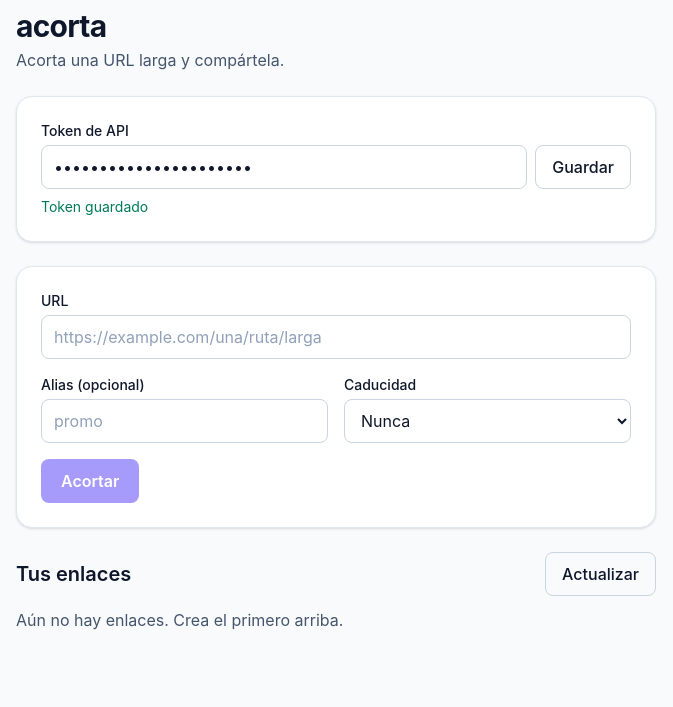
Test case: autenticación › AUT-13: los demás errores al crear (400) no mueven el foco al campo del token
The image size is (673, 707).
Check: the label "URL" is shown, box [41,292,68,309]
Type "ftp://x" into the field labelled "URL" at (336, 337), box [41,315,631,359]
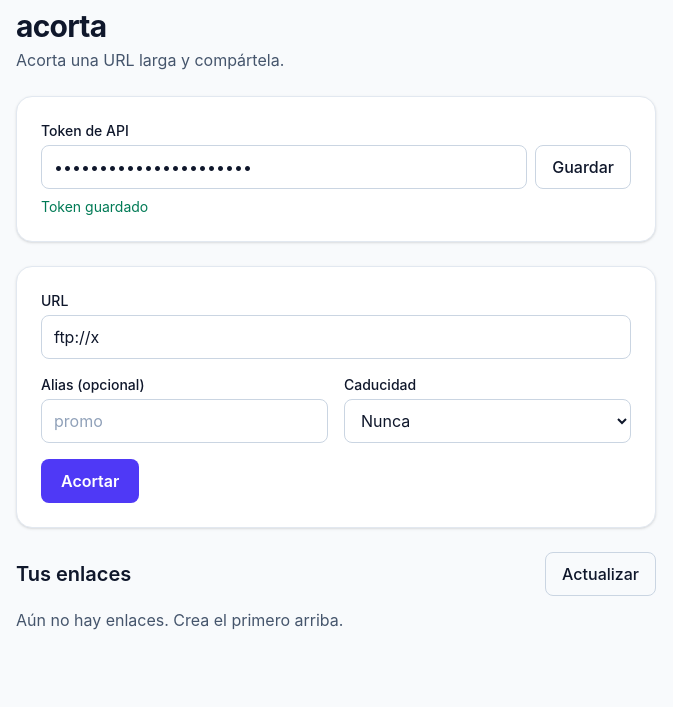
Click the submit button at (90, 481), box [41,459,139,503]
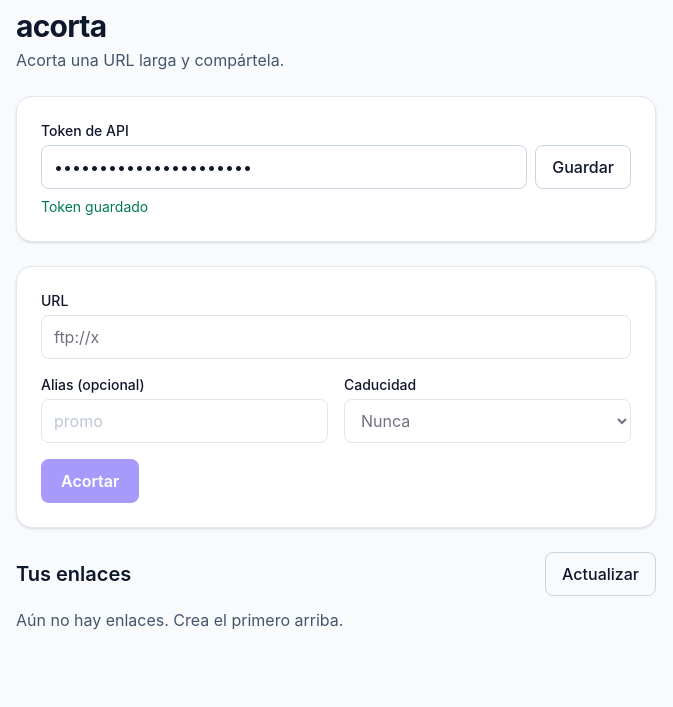
Submit the form, box [41,291,631,503]
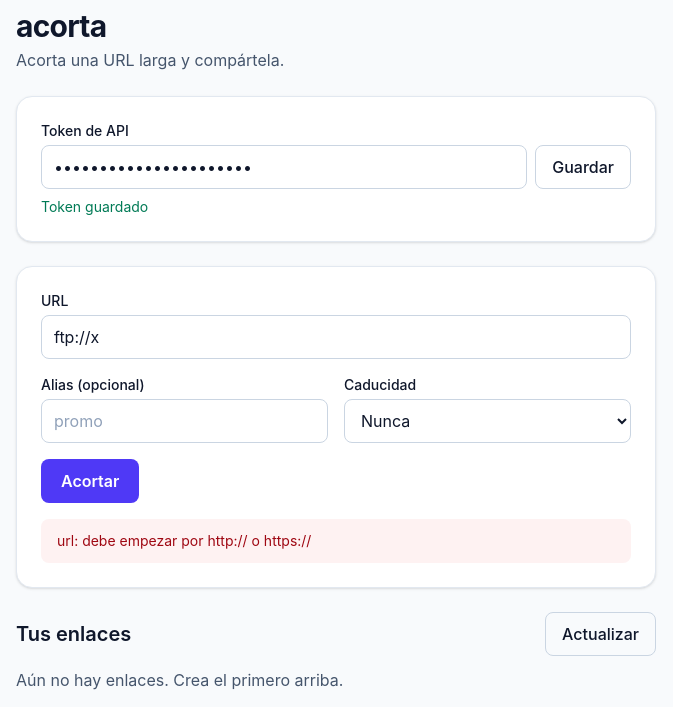
Check: the label "Token de API" is shown, box [41,122,129,139]
Check: the text "url: debe empezar por http:// o https://" is shown, box [57,532,311,549]
